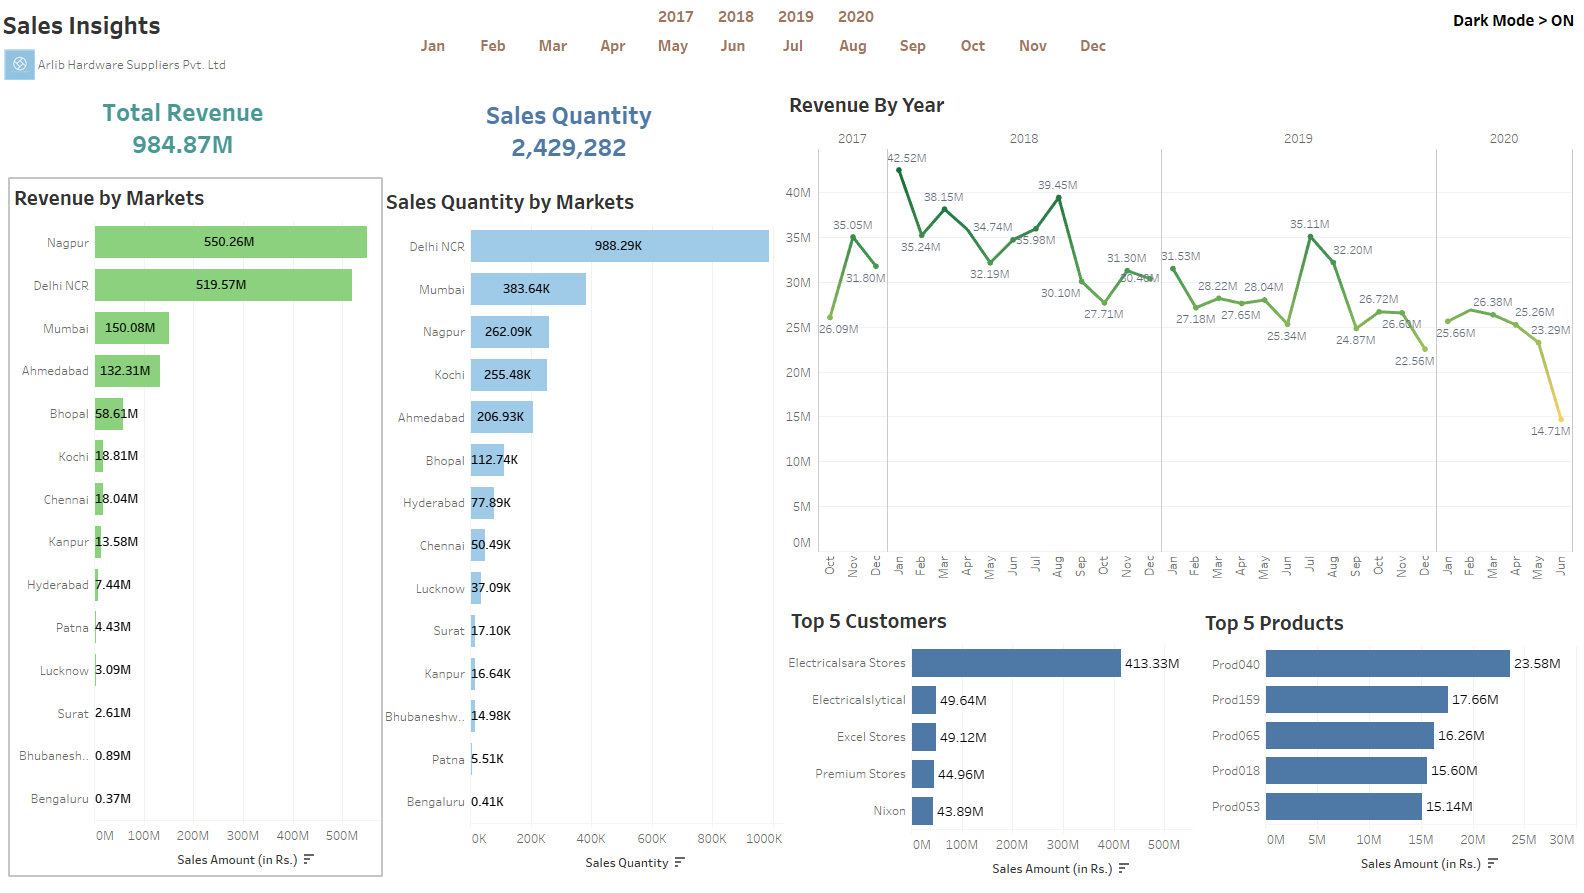

Layout of this report page (visuals, bound fields, positions):
{"tool":"tableau","page":{"name":"Sales Insights","canvas":[1600,900],"ordinal":2},"visuals":[{"type":"title","box":[8,8,1584,41]},{"type":"worksheet","title":"Year","mark":"Automatic","cols":["cy_date"],"box":[658,10,269,28]},{"type":"worksheet","title":"Month","mark":"Automatic","cols":["cy_date"],"box":[415,39,805,32]},{"type":"image","param":"Image/media_1ba2722b76062fb428e1071c5cd59a5d9bc7fb94f.jpeg","box":[16,53,31,32]},{"type":"text","box":[47,53,191,30]},{"type":"worksheet","title":"Revenue By Year","mark":"Automatic","rows":["Calculation_381680116436762625"],"cols":["cy_date","cy_date"],"box":[797,90,789,506]},{"type":"worksheet","title":"Revenue","mark":"Automatic","box":[105,99,181,78]},{"type":"worksheet","title":"Quantity","mark":"Automatic","box":[491,102,203,85]},{"type":"worksheet","title":"Revenue by Markets","mark":"Automatic","rows":["markets_name"],"cols":["Calculation_381680116436762625"],"box":[22,183,371,696]},{"type":"worksheet","title":"Sales Quantity by Markets","mark":"Automatic","rows":["markets_name"],"cols":["sales_qty"],"box":[394,187,402,695]},{"type":"worksheet","title":"Top 5 Customers","mark":"Automatic","rows":["custmer_name"],"cols":["Calculation_381680116436762625"],"box":[799,606,407,282]},{"type":"worksheet","title":"Top 5 Products","mark":"Automatic","rows":["product_code (products)"],"cols":["Calculation_381680116436762625"],"box":[1213,608,376,275]}]}

Visuals, with their boxes in screenshot pixels (x1, y1, x2, y2), scaled from the page's 1600x900 canvas onto the 1584x893 screenshot:
title: bbox(8, 8, 1576, 49)
"Year" worksheet: bbox(651, 10, 918, 38)
"Month" worksheet: bbox(411, 39, 1208, 70)
image: bbox(16, 53, 47, 84)
text: bbox(47, 53, 236, 82)
"Revenue By Year" worksheet: bbox(789, 89, 1570, 591)
"Revenue" worksheet: bbox(104, 98, 283, 176)
"Quantity" worksheet: bbox(486, 101, 687, 186)
"Revenue by Markets" worksheet: bbox(22, 182, 389, 872)
"Sales Quantity by Markets" worksheet: bbox(390, 186, 788, 875)
"Top 5 Customers" worksheet: bbox(791, 601, 1194, 881)
"Top 5 Products" worksheet: bbox(1201, 603, 1573, 876)
